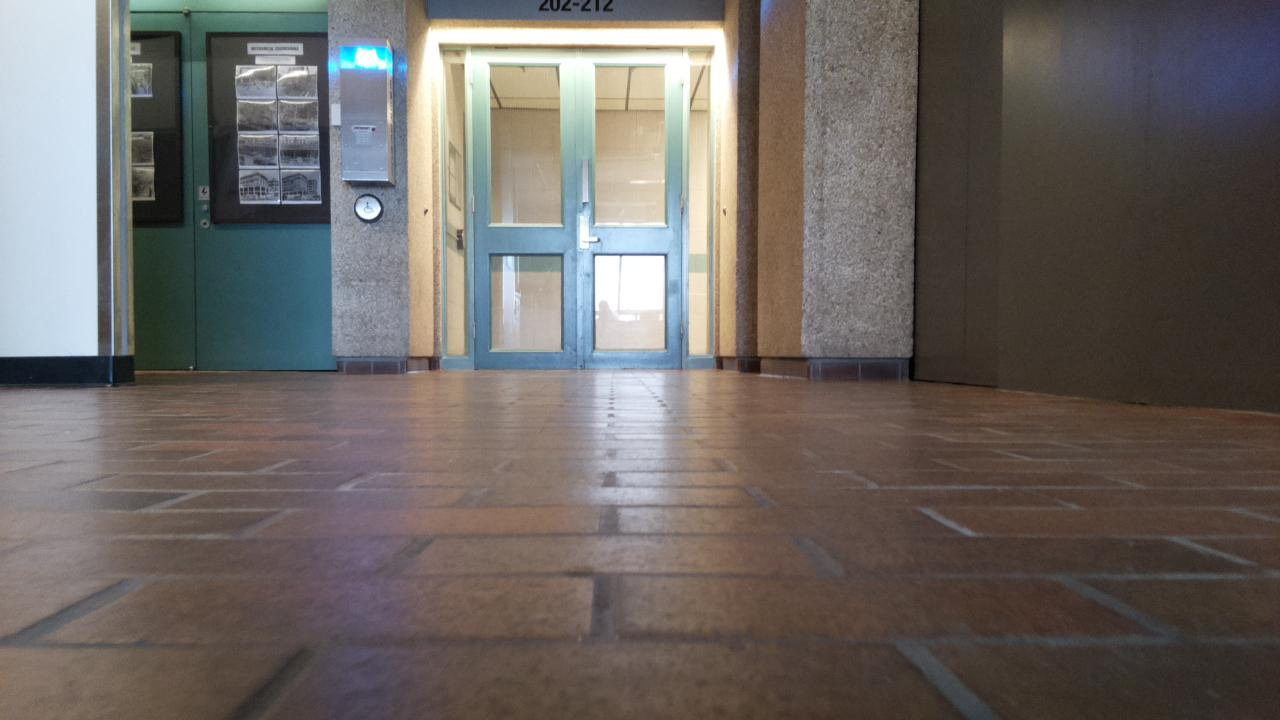door: (472, 47, 681, 368)
